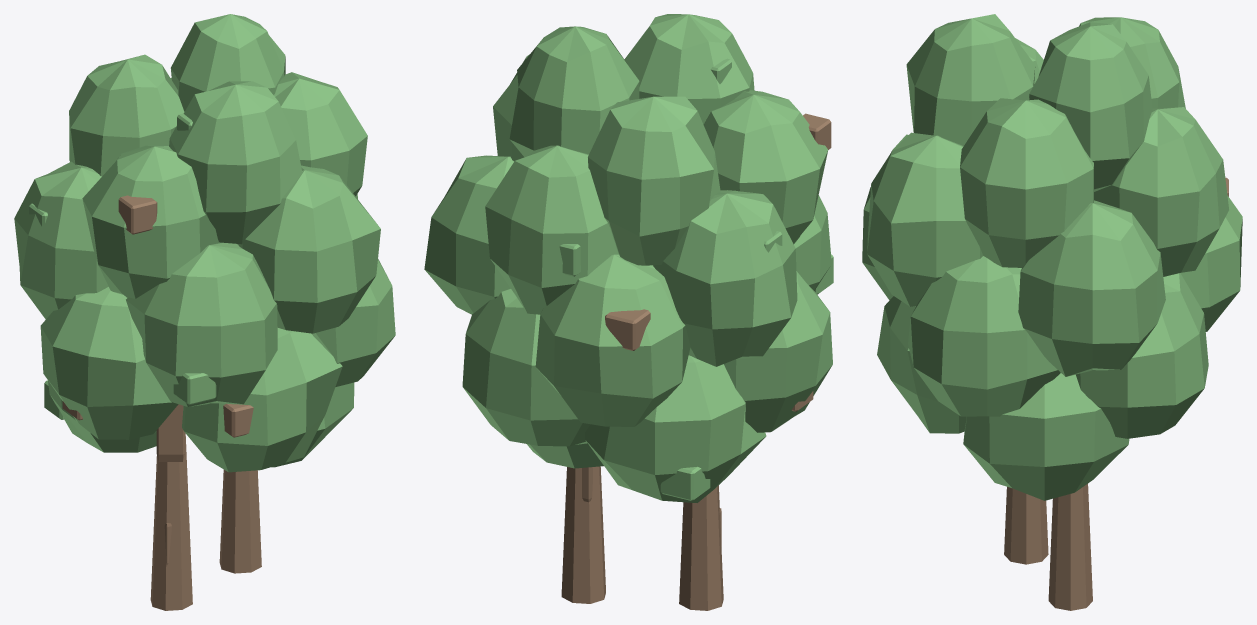
Rendered from b08_river_birch_clump.glb.
3 renders of one model, left to right at view 1: azimuth 30°, elevation 25°; view 2: azimuth 150°, elevation 25°; view 3: azimuth 270°, elevation 25°, orthographic. The views are drawn at different scales.
Parts seen in each view (by area): view 1: b08_river_birch_clump; view 2: b08_river_birch_clump; view 3: b08_river_birch_clump.
Boxes of the visible parts, <box> form: b08_river_birch_clump: <box>14,14,395,610</box>; b08_river_birch_clump: <box>424,14,833,610</box>; b08_river_birch_clump: <box>862,14,1242,610</box>.
Size of the model in its own units: 3.96 by 6.24 by 3.75.
